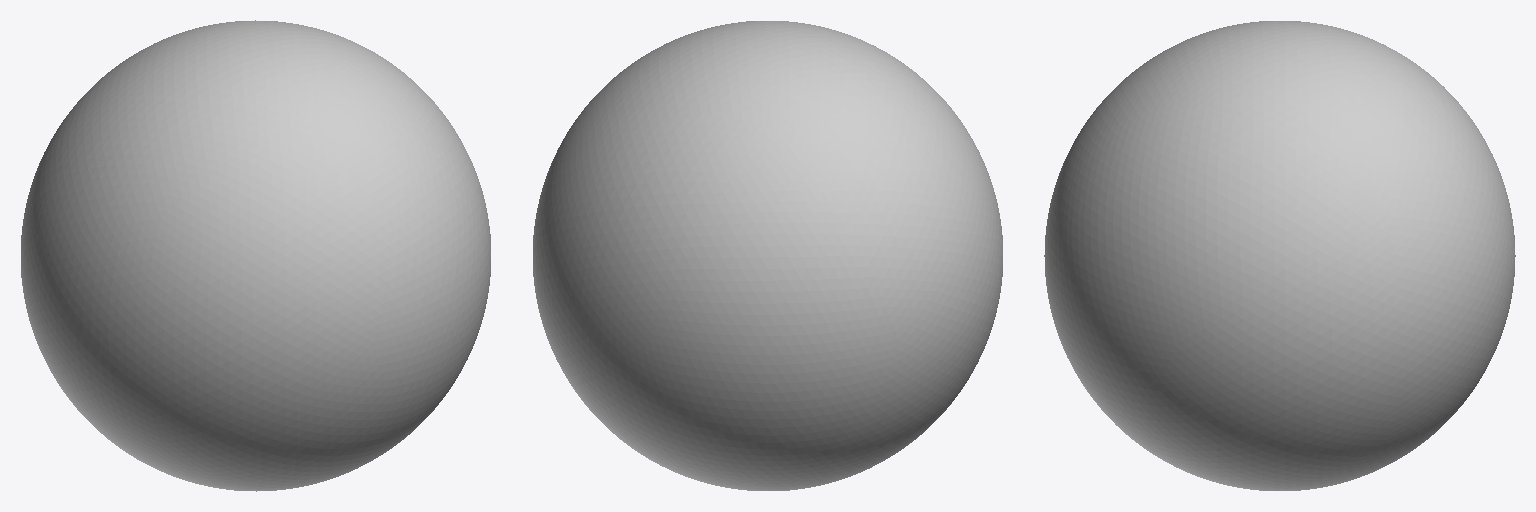
The model's file is ball10kflat.obj.
The picture shows the model from 3 angles: view 1: azimuth 30°, elevation 25°; view 2: azimuth 150°, elevation 25°; view 3: azimuth 270°, elevation 25°; orthographic projection.
Parts seen in each view (by area): view 1: pPlatonic1; view 2: pPlatonic1; view 3: pPlatonic1.
Boxes of the visible parts, box(x1,y1,x2,y2) form: pPlatonic1: box(21, 20, 490, 491); pPlatonic1: box(533, 21, 1002, 490); pPlatonic1: box(1044, 21, 1515, 490).
Size of the model in its own units: 2 by 2 by 2.